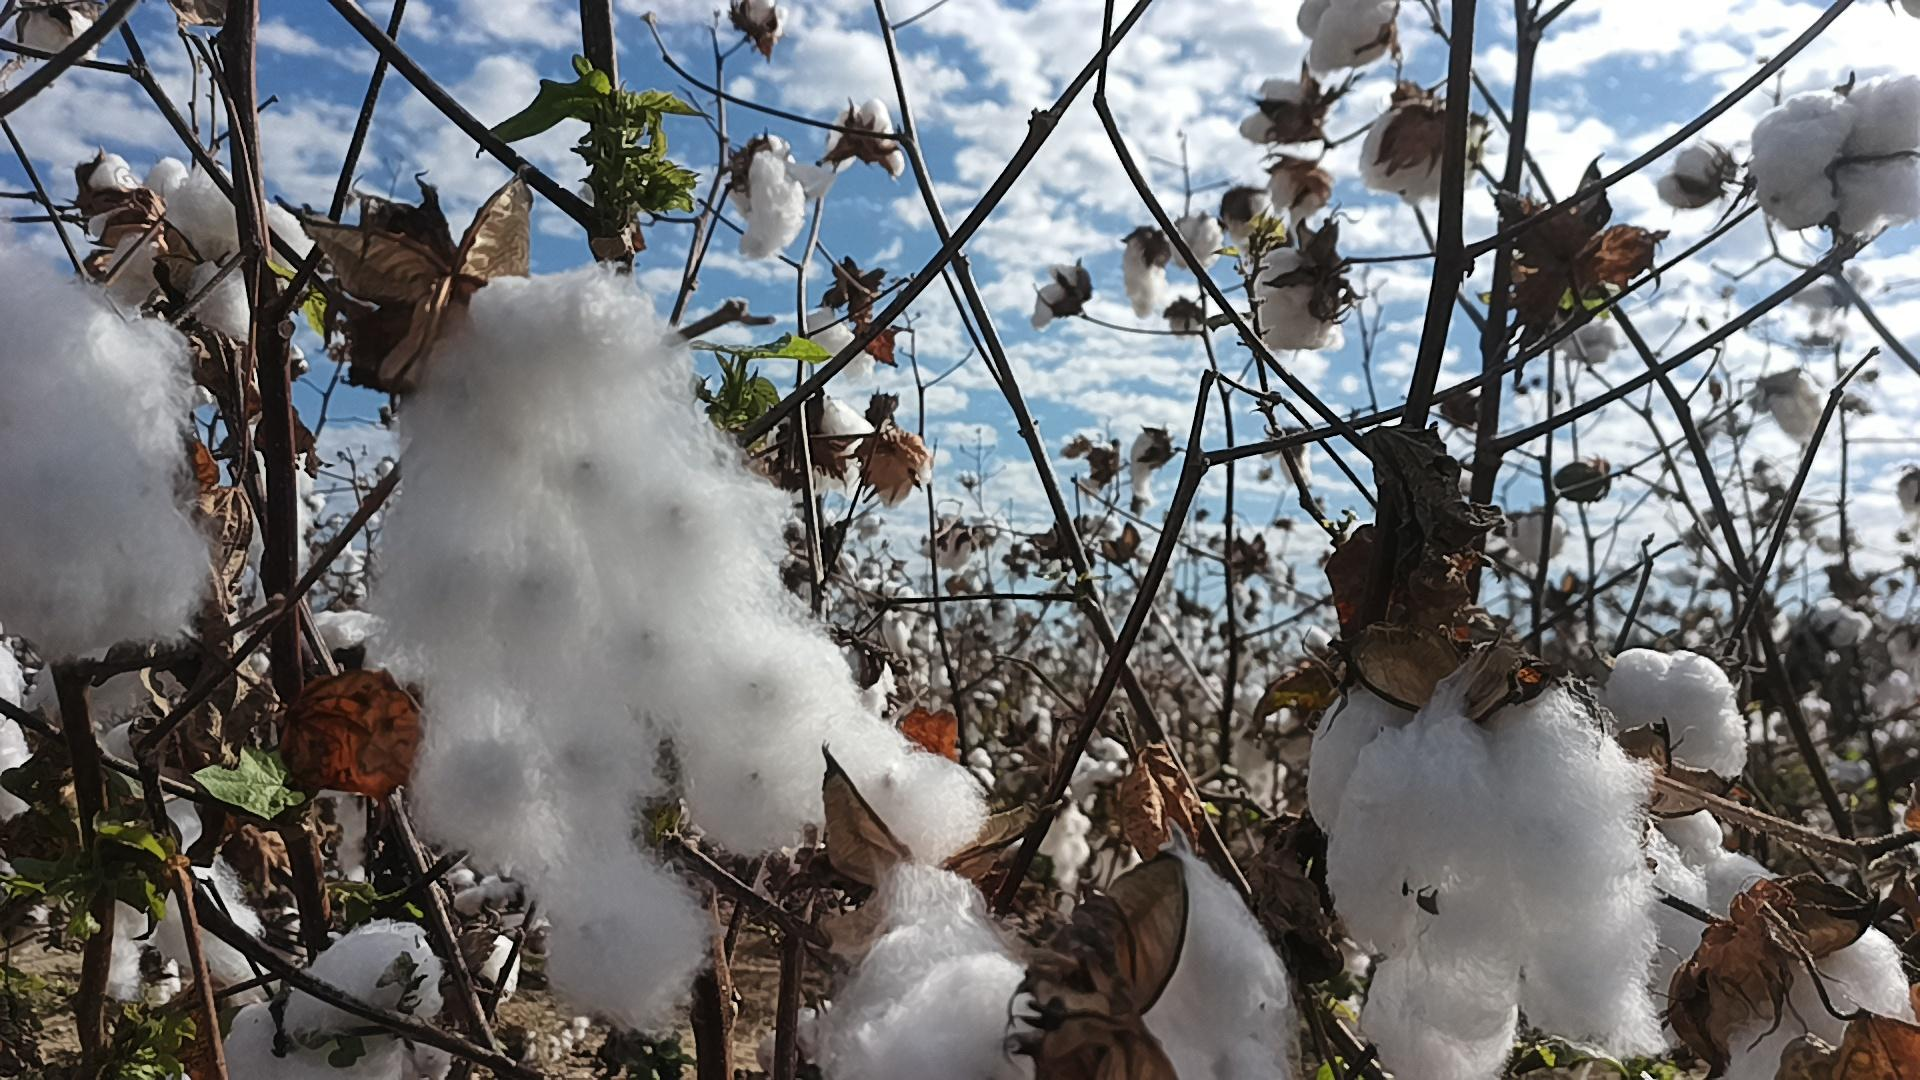cotton_ready: (363, 268, 990, 1027), (1304, 673, 1676, 1080), (0, 237, 208, 658), (824, 861, 1051, 1080), (1639, 791, 1788, 1054), (1135, 856, 1298, 1080), (225, 924, 446, 1080), (1724, 910, 1920, 1080), (108, 799, 265, 1006), (150, 156, 318, 345), (1753, 75, 1920, 236), (298, 611, 423, 799), (1588, 650, 1759, 777), (1358, 107, 1487, 200), (767, 396, 881, 493), (36, 647, 154, 738), (732, 136, 808, 265), (1255, 247, 1340, 351), (83, 153, 167, 245), (1298, 0, 1398, 75), (818, 95, 909, 177), (0, 644, 38, 825), (98, 225, 175, 309), (1238, 70, 1321, 141), (822, 646, 898, 723), (5, 9, 100, 70), (1654, 144, 1730, 208), (732, 0, 789, 46)
